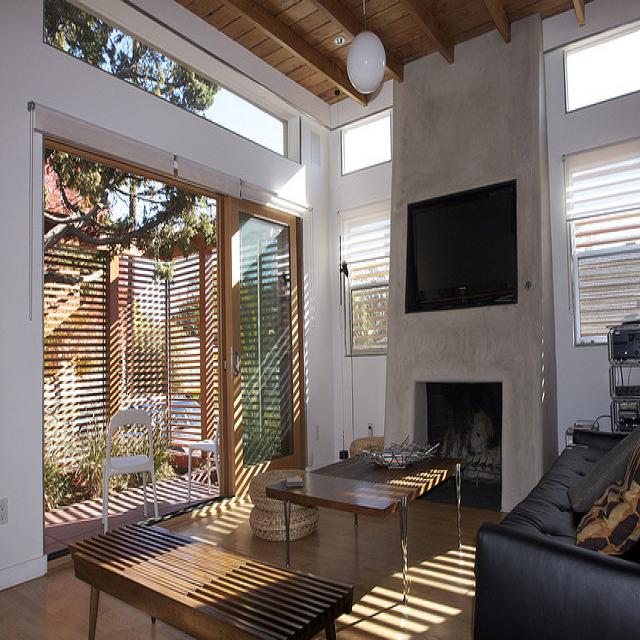chair: (103, 409, 159, 534), (252, 469, 319, 540), (188, 418, 221, 500)
